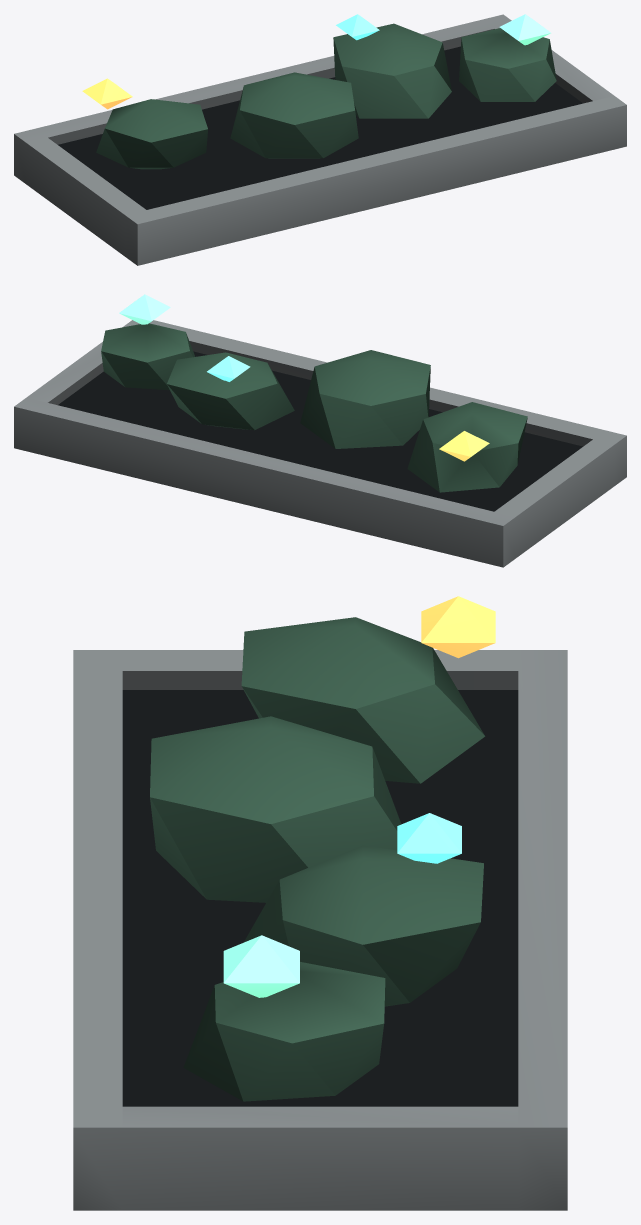
Rendered from flower-bed.lod2.glb.
The picture shows the model from 3 angles, top to bottom: view 1: azimuth 30°, elevation 25°; view 2: azimuth 150°, elevation 25°; view 3: azimuth 270°, elevation 25°; orthographic projection. The views are drawn at different scales.
Parts seen in each view (by area): view 1: structure; view 2: structure; view 3: structure.
Boxes of the visible parts, <box> form: structure: <box>14,14,626,265</box>; structure: <box>14,294,626,567</box>; structure: <box>73,596,567,1210</box>.
Size of the model in its own units: 3.2 by 0.6952 by 1.4.
